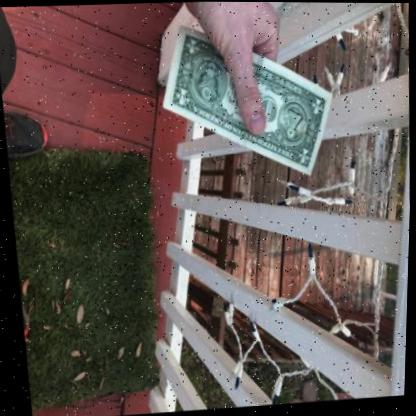dollar_back: (161, 27, 330, 179)
